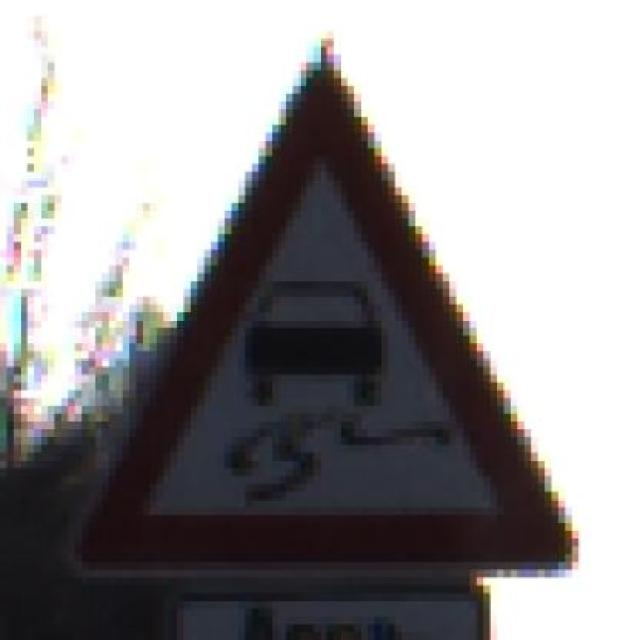Slippery Road Ahead: (67, 38, 591, 584)
